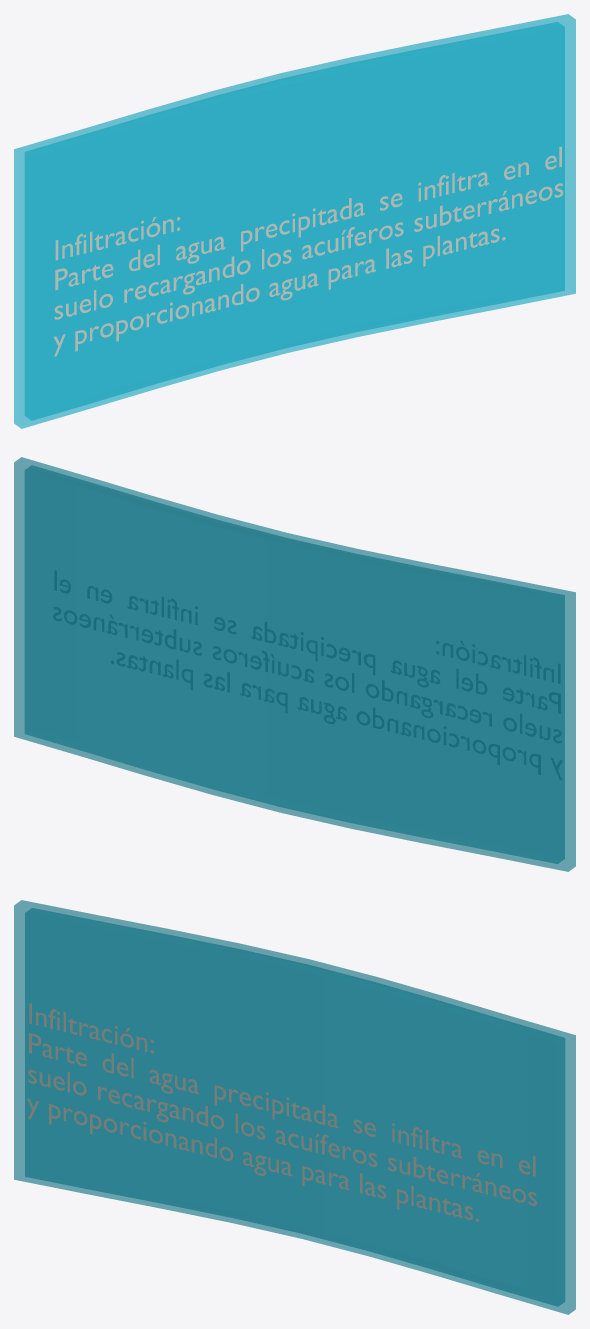
Rendered from inf.glb.
The picture shows the model from 3 angles, top to bottom: view 1: azimuth 30°, elevation 25°; view 2: azimuth 150°, elevation 25°; view 3: azimuth 330°, elevation 25°; orthographic projection.
Parts seen in each view (by area): view 1: Cube, infiltracion; view 2: Cube, infiltracion; view 3: Cube, infiltracion.
Boxes of the visible parts, box(x1,y1,x2,y2) form: Cube: box(14, 14, 575, 428); infiltracion: box(53, 146, 563, 356); Cube: box(14, 457, 575, 871); infiltracion: box(53, 571, 561, 779); Cube: box(14, 900, 575, 1314); infiltracion: box(27, 1003, 536, 1221).
Bounding box in the file's own units: 4.23 × 2 × 0.3736.
